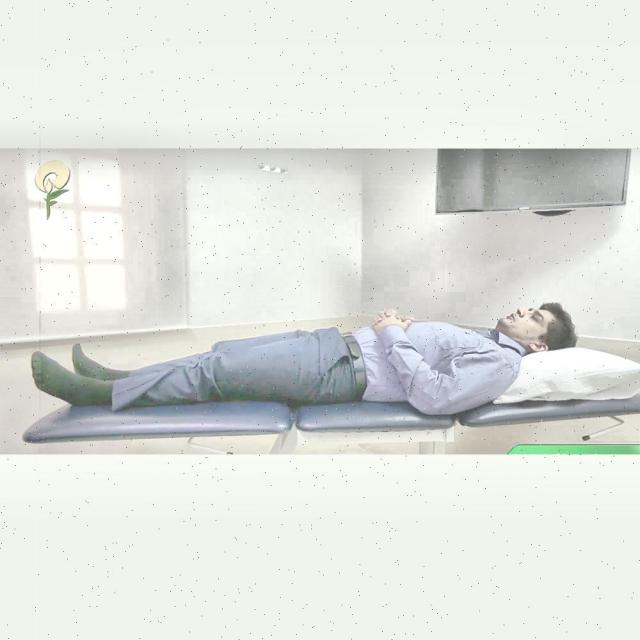Supine: (31, 302, 578, 414)
